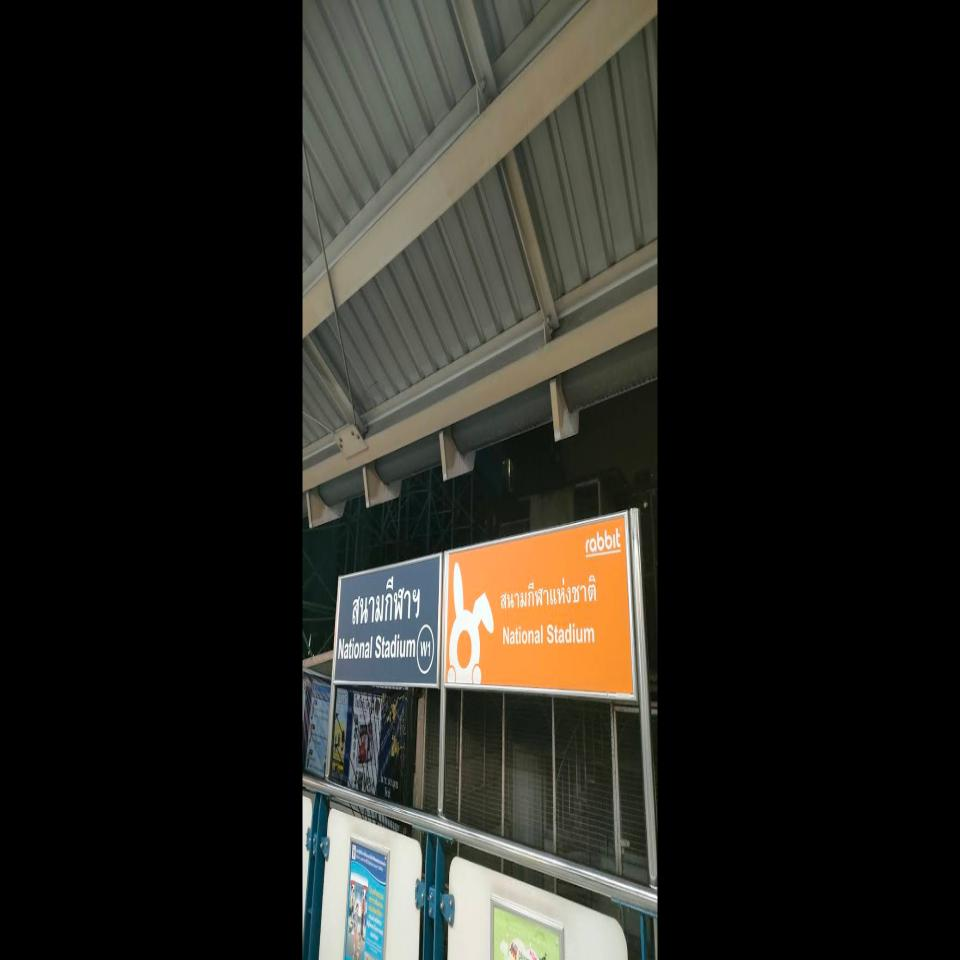signage: (441, 508, 638, 701), (332, 550, 444, 690)
